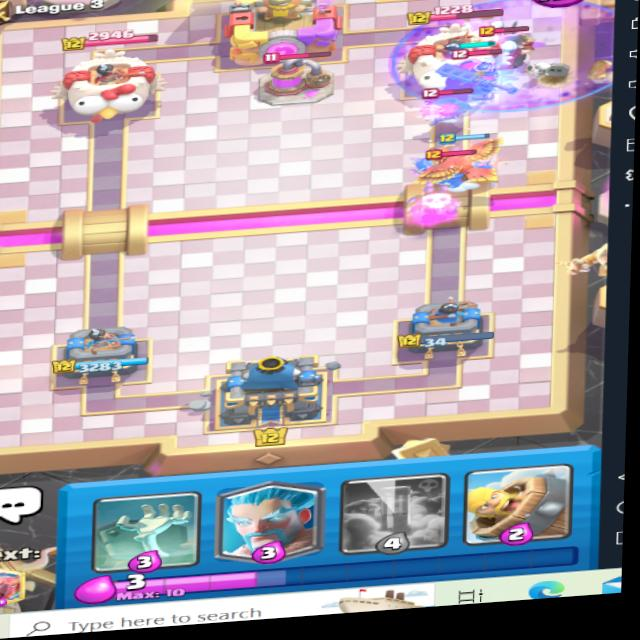bandit: (398, 82, 491, 135)
elixir-collector: (230, 58, 338, 107)
pekka: (412, 153, 479, 199)
skeleton-king: (431, 53, 514, 108)
